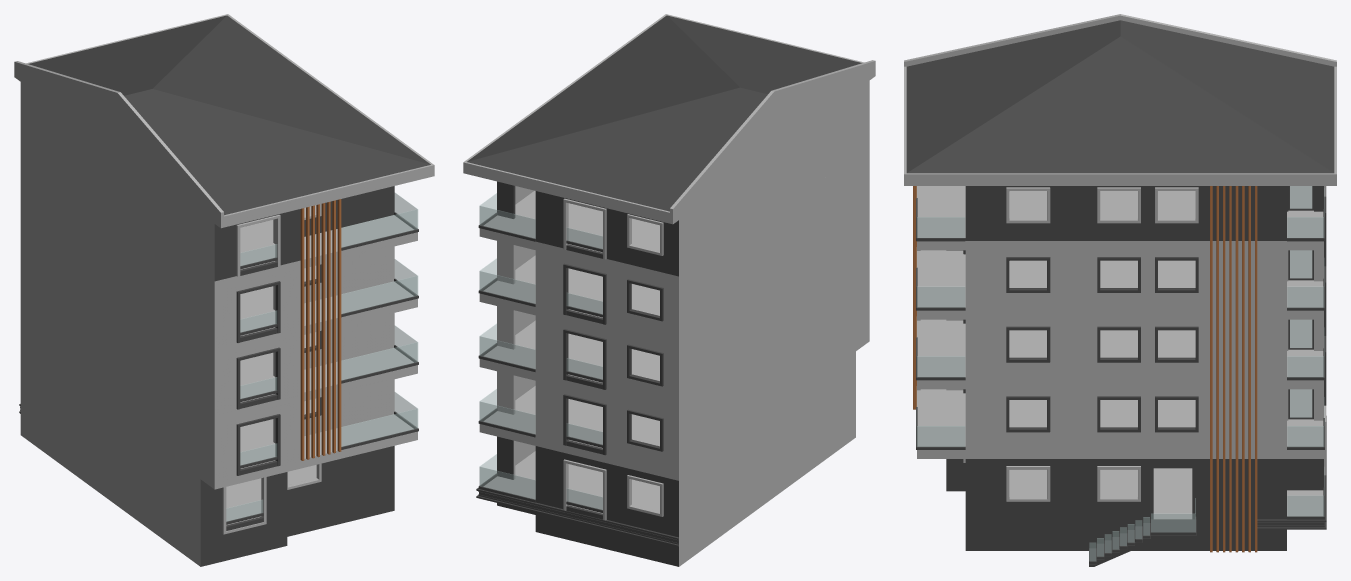
3 renders of one model, left to right at view 1: azimuth 30°, elevation 25°; view 2: azimuth 150°, elevation 25°; view 3: azimuth 270°, elevation 25°, orthographic. The views are drawn at different scales.
Parts seen in each view (by area): view 1: Line002, Line004, Box005, Box009, Line010, Line012, Line011, Line009, Line013, Line014, Line015, Line016 (+1 smaller); view 2: Line002, Line004, Box009, Line008, Line022, Line021, Line018, Line019, Line020, Line026, Line025, Line023 (+2 smaller); view 3: Line002, Line004, Box009, Box006, Line034, Box055, Line010, Line011, Line009, Line012, Line018, Line020 (+9 smaller).
Part boxes in pixels (bbox=[...]): Line002: bbox=[14, 14, 434, 566]; Line004: bbox=[28, 15, 430, 215]; Box005: bbox=[300, 199, 341, 460]; Box009: bbox=[222, 204, 321, 534]; Line010: bbox=[341, 259, 418, 317]; Line012: bbox=[341, 392, 418, 449]; Line011: bbox=[341, 325, 418, 383]; Line009: bbox=[341, 192, 418, 250]; Line013: bbox=[240, 244, 277, 269]; Line014: bbox=[240, 310, 277, 335]; Line015: bbox=[240, 377, 277, 401]; Line016: bbox=[240, 443, 277, 468]; Line002: bbox=[463, 14, 875, 566]; Line004: bbox=[467, 15, 861, 211]; Box009: bbox=[563, 198, 663, 520]; Line008: bbox=[476, 488, 678, 546]; Line022: bbox=[478, 454, 535, 502]; Line021: bbox=[478, 389, 535, 437]; Line018: bbox=[478, 193, 535, 241]; Line019: bbox=[478, 258, 535, 306]; Line020: bbox=[478, 323, 535, 371]; Line026: bbox=[566, 423, 602, 447]; Line025: bbox=[566, 358, 602, 382]; Line023: bbox=[566, 227, 602, 252]; Line002: bbox=[904, 14, 1336, 550]; Line004: bbox=[906, 20, 1334, 173]; Box009: bbox=[963, 186, 1326, 501]; Box006: bbox=[1210, 186, 1257, 552]; Line034: bbox=[1089, 498, 1196, 564]; Box055: bbox=[1089, 519, 1196, 566]; Line010: bbox=[916, 247, 965, 310]; Line011: bbox=[916, 317, 965, 380]; Line009: bbox=[916, 186, 965, 241]; Line012: bbox=[916, 386, 965, 449]; Line018: bbox=[1287, 188, 1324, 241]; Line020: bbox=[1287, 328, 1324, 380].
Bounding box in the file's own units: 1110 × 1866 × 1690.
